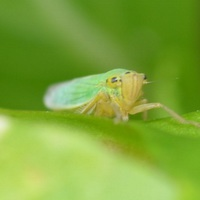insect: (44, 68, 199, 127)
